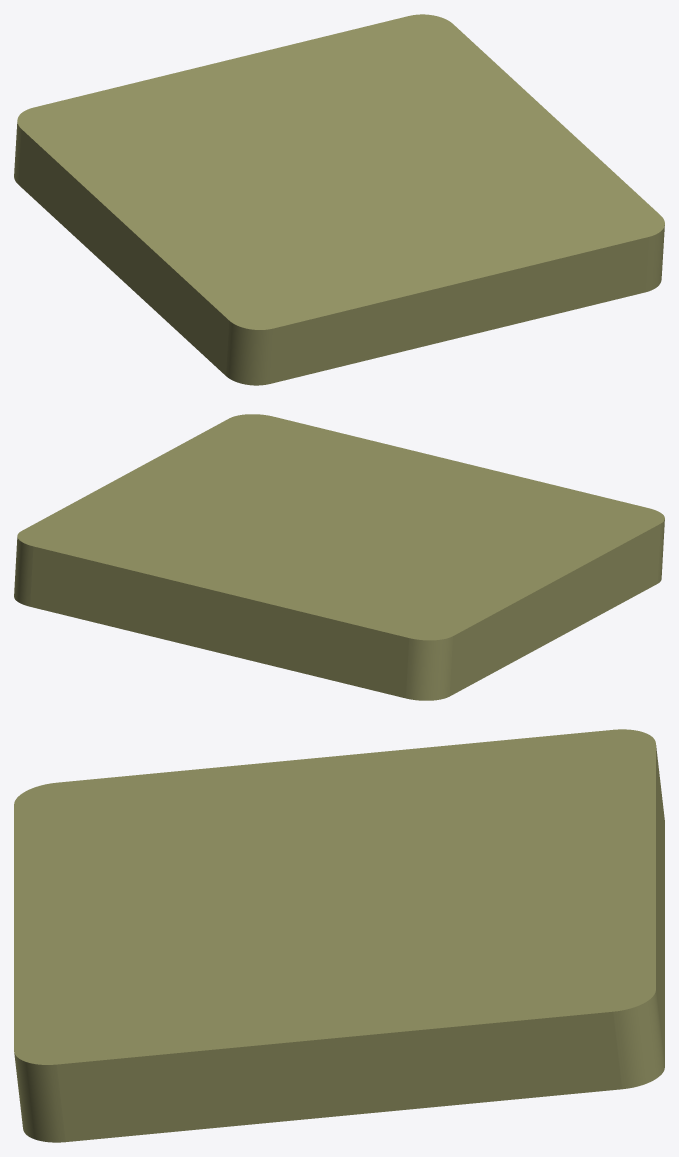
Rendered from original-109.obj.
The picture shows the model from 3 angles, top to bottom: view 1: azimuth 30°, elevation 25°; view 2: azimuth 150°, elevation 25°; view 3: azimuth 270°, elevation 25°; orthographic projection. The views are drawn at different scales.
Parts seen in each view (by area): view 1: Group110/mesh337/mesh337-geometry#mesh337-geometry; view 2: Group110/mesh337/mesh337-geometry#mesh337-geometry; view 3: Group110/mesh337/mesh337-geometry#mesh337-geometry.
Part boxes in pixels (x1,y1,x2,y2): Group110/mesh337/mesh337-geometry#mesh337-geometry: [14, 14, 664, 385]; Group110/mesh337/mesh337-geometry#mesh337-geometry: [14, 414, 664, 700]; Group110/mesh337/mesh337-geometry#mesh337-geometry: [14, 729, 664, 1142].
Size of the model in its own units: 0.0689 by 0.0158 by 0.0673.
